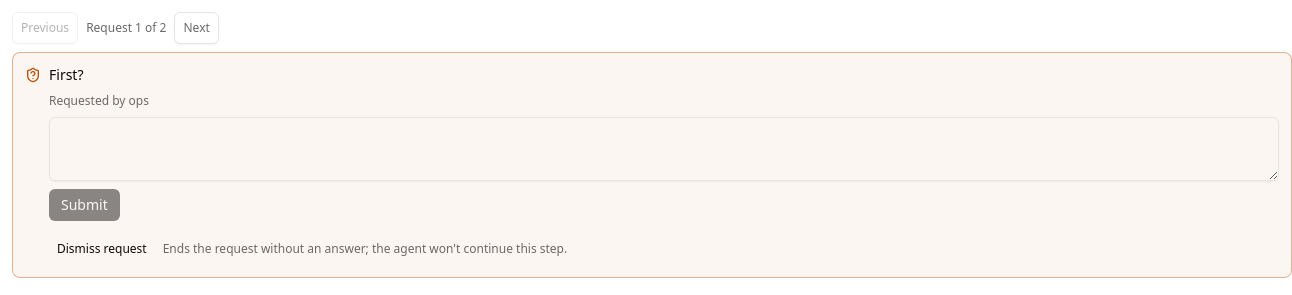
Scenario: pending request pager › shows one request at a time with Request i of N
This screenshot has width=1292, height=295.
Expected: the text "Request 1 of 2" is shown, [86,20,166,36]
Expected: the text "First?" is shown, [49,65,84,84]
Click the button "Next": (197, 28) [174,12,219,44]
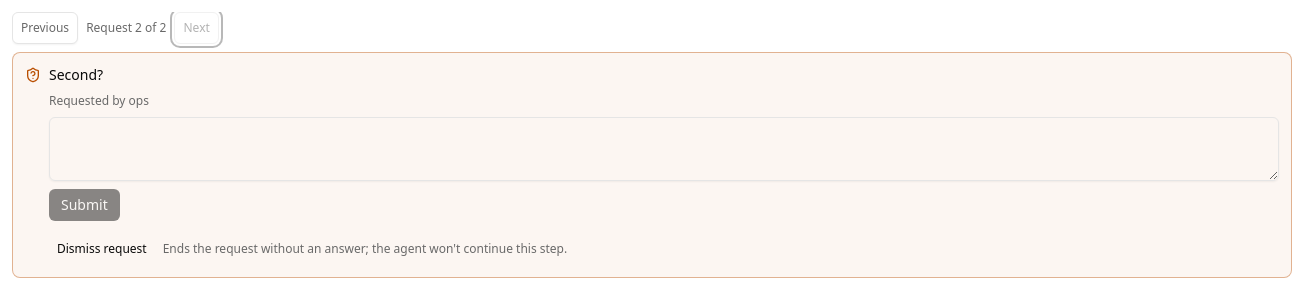
Expected: the text "Second?" is shown, [49,65,103,84]
